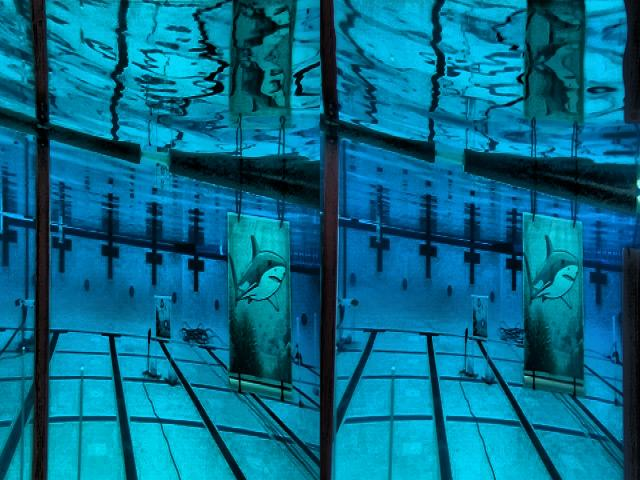gate: (319, 127, 639, 480), (0, 126, 319, 480)
octagon_table: (15, 298, 44, 354), (335, 298, 359, 352)
octagon_top: (0, 210, 72, 243), (320, 209, 389, 243)
shark: (227, 215, 297, 394), (522, 210, 586, 381)
